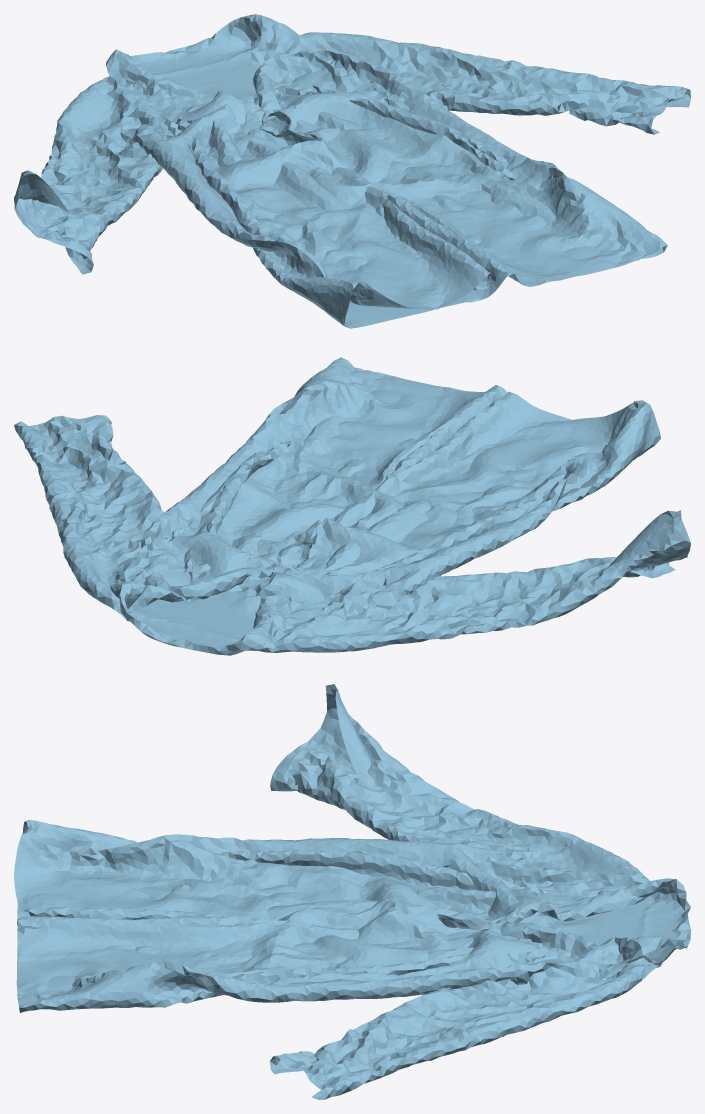
Rendered from frame_02.glb.
The picture shows the model from 3 angles, top to bottom: view 1: azimuth 30°, elevation 25°; view 2: azimuth 150°, elevation 25°; view 3: azimuth 270°, elevation 25°; orthographic projection.
Parts seen in each view (by area): view 1: frame_02.obj; view 2: frame_02.obj; view 3: frame_02.obj.
Part boxes in pixels (left/top/right/bottom): frame_02.obj: left=14, top=14, right=690, bottom=328; frame_02.obj: left=14, top=357, right=690, bottom=655; frame_02.obj: left=14, top=684, right=690, bottom=1099.
Bounding box in the file's own units: 1.97 × 0.2497 × 1.68.
